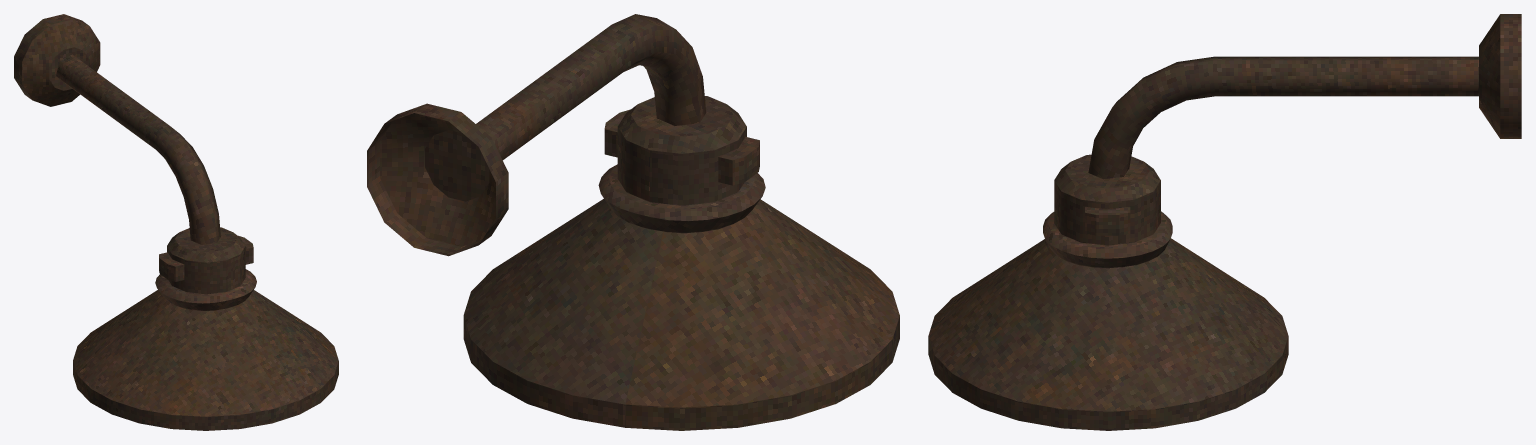
File: lamp_mx_4_off.glb
The picture shows the model from 3 angles, left to right: view 1: azimuth 30°, elevation 25°; view 2: azimuth 150°, elevation 25°; view 3: azimuth 270°, elevation 25°; orthographic projection. The views are drawn at different scales.
Visible parts, largest first — view 1: lamp_mx_4_off; view 2: lamp_mx_4_off; view 3: lamp_mx_4_off.
Part boxes in pixels (box(x1,y1,x2,y2)): lamp_mx_4_off: box(14, 14, 338, 430); lamp_mx_4_off: box(367, 14, 899, 430); lamp_mx_4_off: box(928, 14, 1521, 430).
Size of the model in its own units: 0.51 by 0.5559 by 0.84.
Materials: 2 (2 with a texture image).
